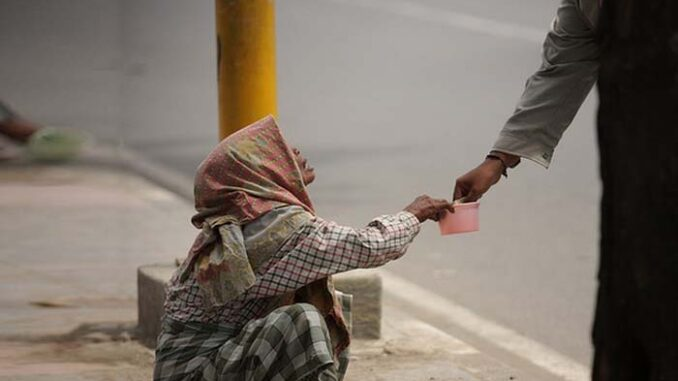gelandangan: (135, 109, 488, 381)
